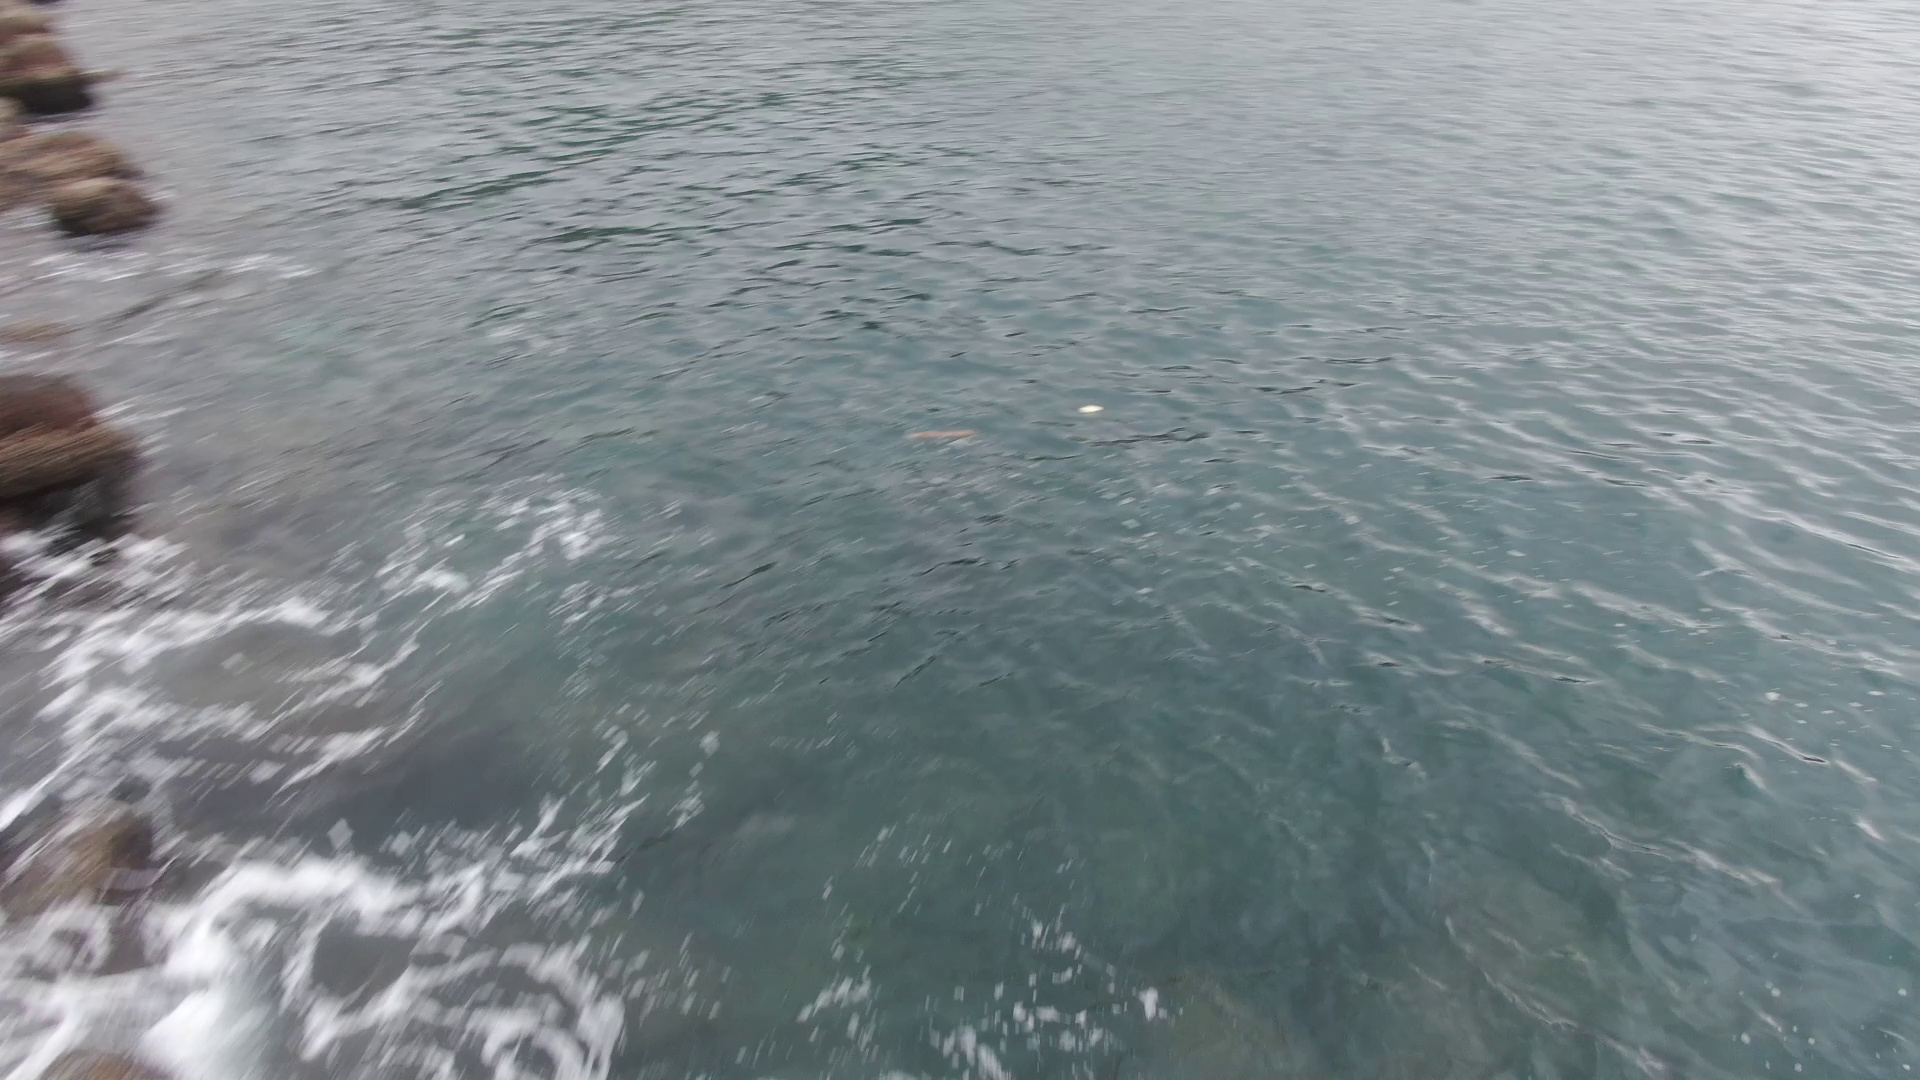garbage: (903, 426, 977, 439), (1076, 404, 1106, 413)
